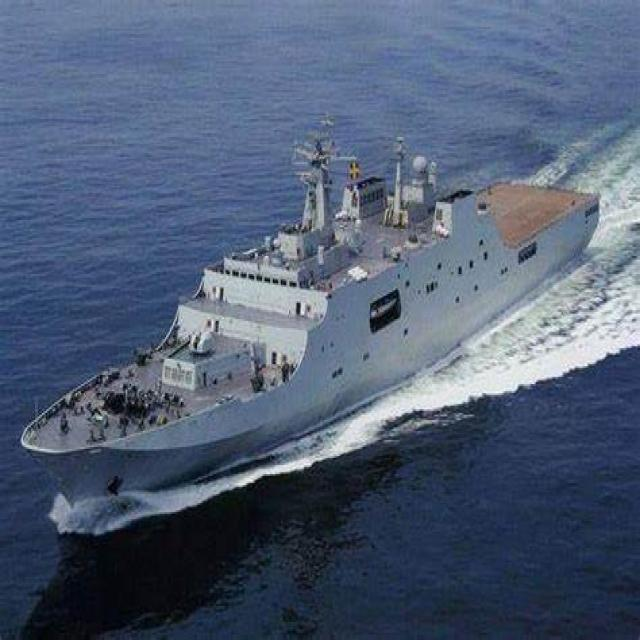navalvessels: (16, 95, 616, 459)
